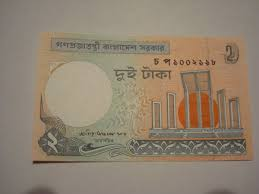2_taka: (39, 38, 245, 154)
